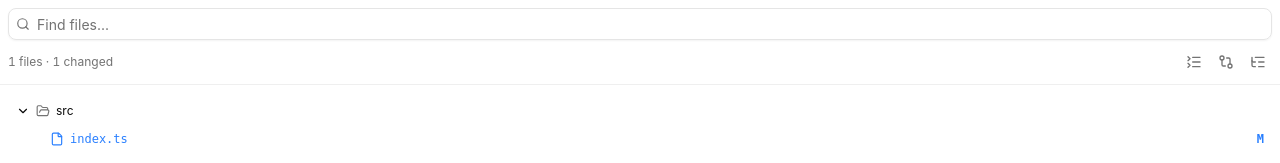
it: clicking a collapsed directory expands its children
The image size is (1280, 163).
Step 1. Click the button "src" → (23,111), box [8,97,1272,125]
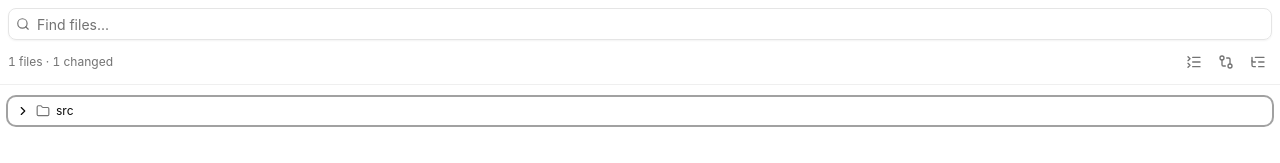
Result: the button "index.ts" is gone
Expand again
Step 2. Click the button "src" → (23,111), box [8,97,1272,125]
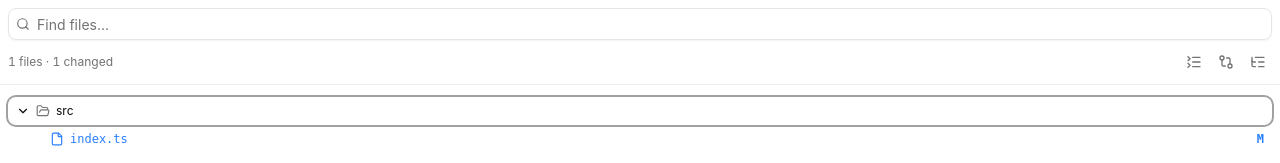
Result: the text "index.ts" is shown at [70,132,128,146]
